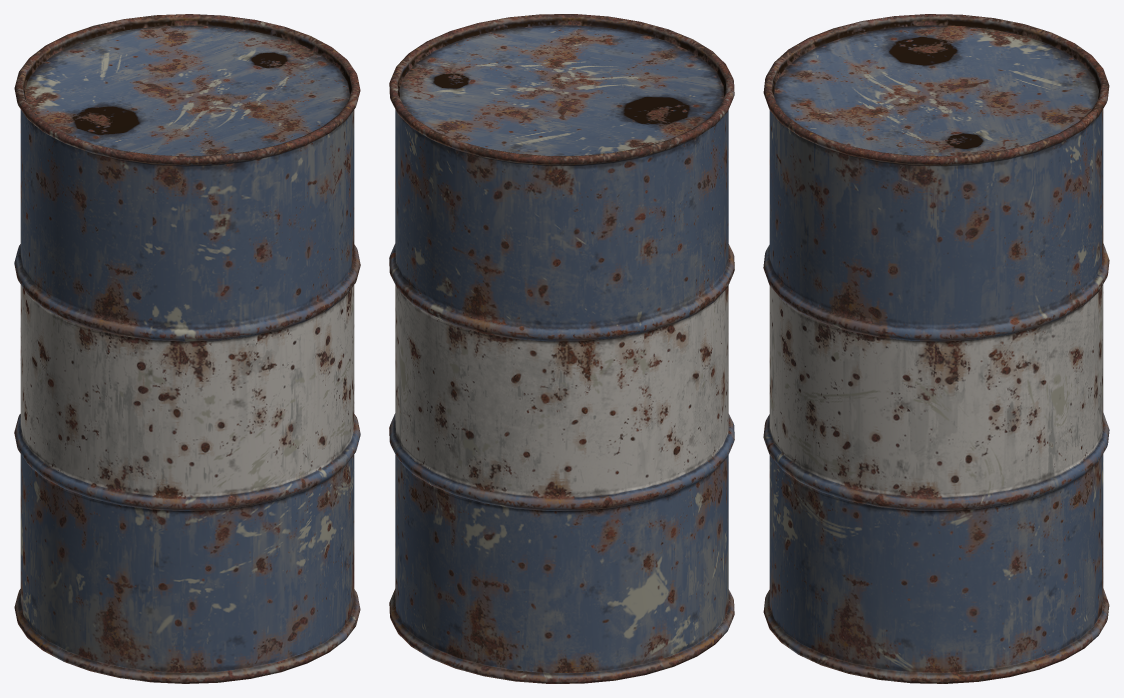
Rendered from Barrel_10.glb.
The picture shows the model from 3 angles, left to right: view 1: azimuth 30°, elevation 25°; view 2: azimuth 150°, elevation 25°; view 3: azimuth 270°, elevation 25°; orthographic projection.
Parts seen in each view (by area): view 1: Barrel2_v2_low.002_Metal2_v2_0; view 2: Barrel2_v2_low.002_Metal2_v2_0; view 3: Barrel2_v2_low.002_Metal2_v2_0.
Part boxes in pixels (x1,y1,x2,y2): Barrel2_v2_low.002_Metal2_v2_0: (14,14,360,683); Barrel2_v2_low.002_Metal2_v2_0: (389,14,734,683); Barrel2_v2_low.002_Metal2_v2_0: (763,14,1109,683).
Bounding box in the file's own units: 0.4115 × 0.6896 × 0.4115.
1 material, 1 textured.
